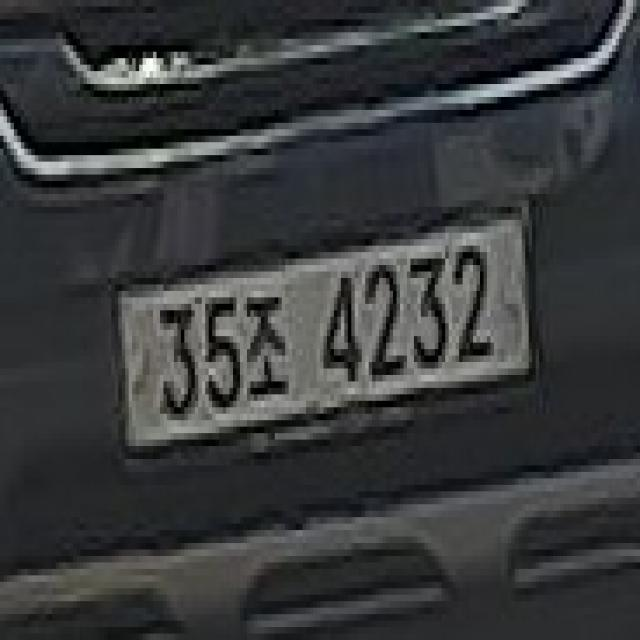2: (449, 239, 494, 369)
3: (404, 245, 448, 368), (157, 297, 198, 427)
4: (320, 272, 362, 382)
5: (202, 298, 243, 420)
jo: (244, 291, 288, 401)
license_plate: (111, 194, 536, 459)
